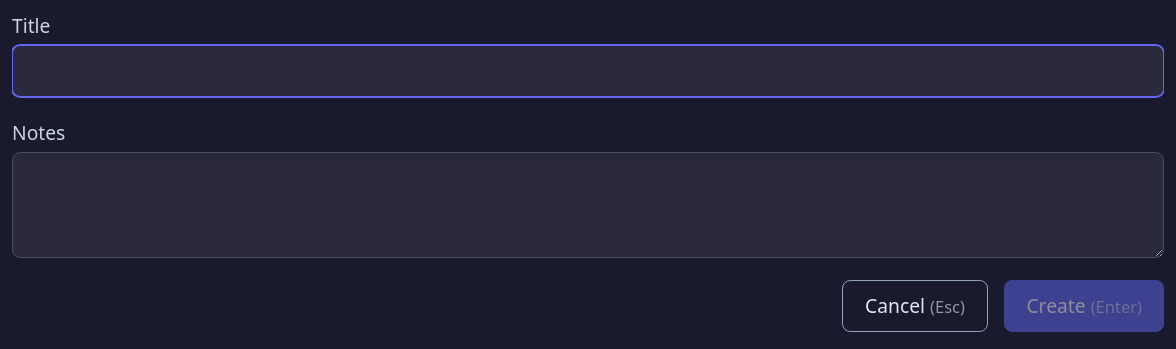
Scenario: Form Validation Tests › ConceptForm › submit button is enabled when title has text
Type "My Concept" into the field at {"x": 588, "y": 71}, box [12,45,1164,96]
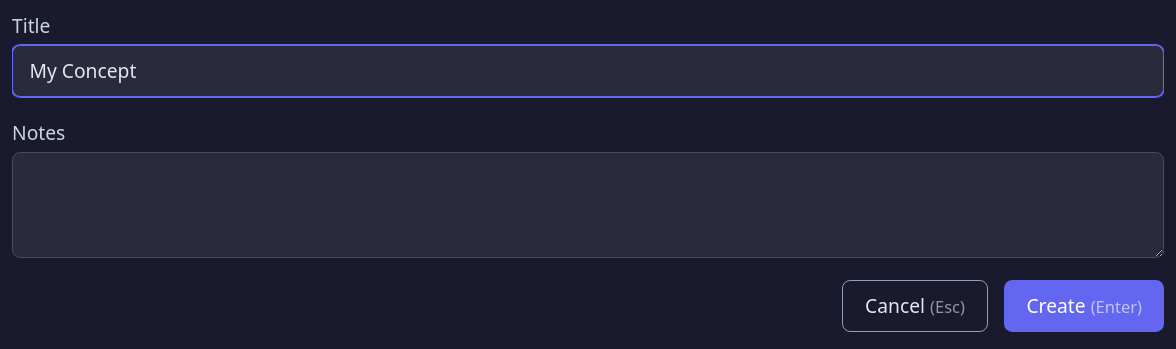
Result: the button "Create (Enter)" is enabled at [1004,280,1164,332]
